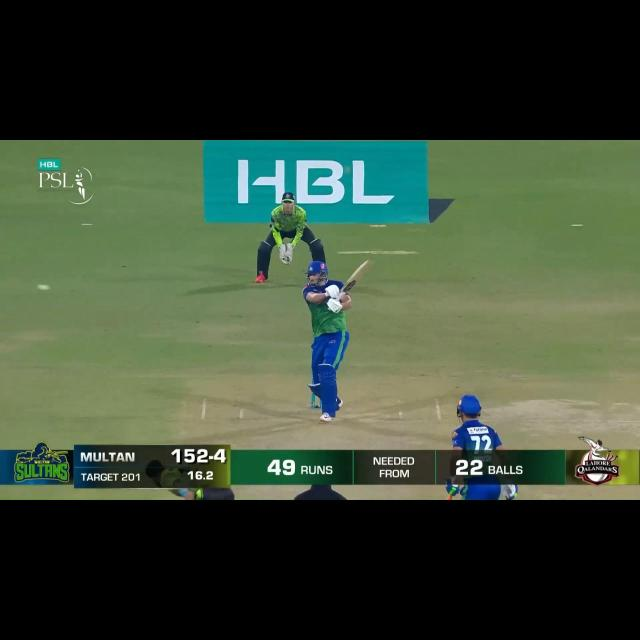bat: (340, 261, 374, 294)
toe: (362, 262, 374, 269)
